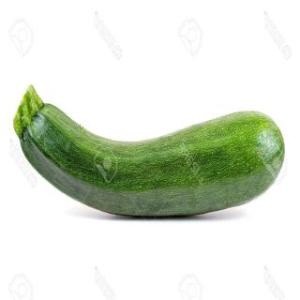zucchini: (0, 61, 290, 217)
